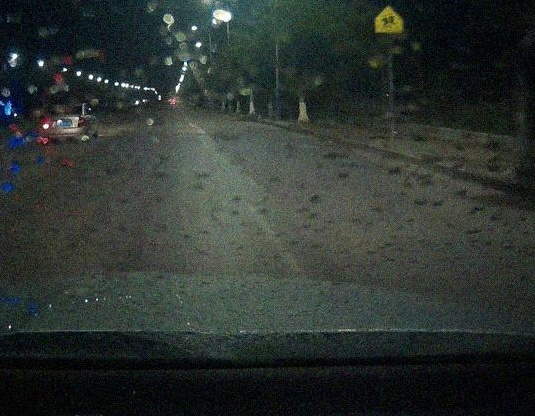L_light: (42, 118, 50, 130)
R_light: (78, 116, 86, 127)
T_light: (60, 104, 69, 107)
night-left: (41, 103, 86, 143)
